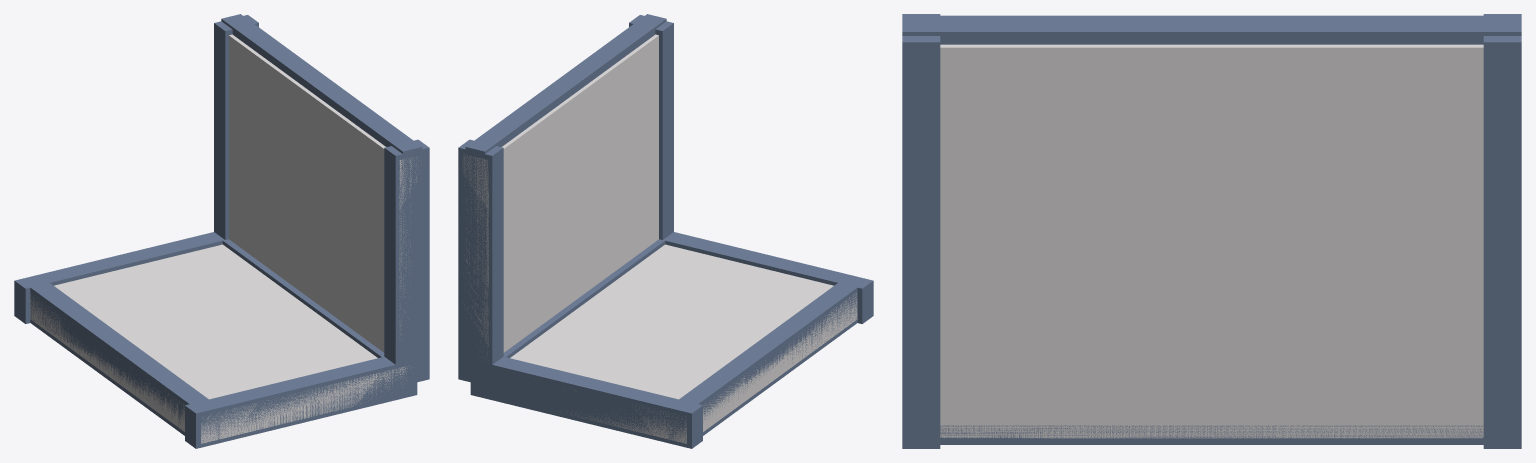
The model's file is 02_wall_inner_corner.glb.
3 views of the same model, side by side, from view 1: azimuth 30°, elevation 25°; view 2: azimuth 150°, elevation 25°; view 3: azimuth 270°, elevation 25° (orthographic). The views are drawn at different scales.
Visible parts, largest first — view 1: part_1, part_6, part_7, part_2, part_4, part_9, part_3, part_8, part_5; view 2: part_6, part_1, part_3, part_8, part_4, part_9, part_2, part_7, part_5; view 3: part_6, part_9, part_7, part_8, part_5, part_1.
Part boxes in pixels (<box>): part_1: <box>30,244,410,443</box>; part_6: <box>229,34,416,352</box>; part_7: <box>384,139,429,383</box>; part_2: <box>185,356,417,448</box>; part_4: <box>30,283,220,444</box>; part_9: <box>221,14,422,153</box>; part_3: <box>14,232,224,323</box>; part_8: <box>214,15,258,239</box>; part_5: <box>212,232,395,365</box>; part_6: <box>462,34,658,360</box>; part_1: <box>510,244,857,443</box>; part_3: <box>470,356,702,448</box>; part_8: <box>458,139,503,382</box>; part_4: <box>668,283,857,444</box>; part_9: <box>465,14,666,183</box>; part_2: <box>663,232,873,323</box>; part_7: <box>629,15,673,239</box>; part_5: <box>492,232,675,365</box>; part_6: <box>940,44,1483,425</box>; part_9: <box>902,15,1521,44</box>; part_7: <box>902,14,940,437</box>; part_8: <box>1483,14,1521,437</box>; part_5: <box>940,425,1483,444</box>; part_1: <box>940,425,1483,438</box>.
Size of the model in its own units: 1.93 by 1.95 by 2.6.
